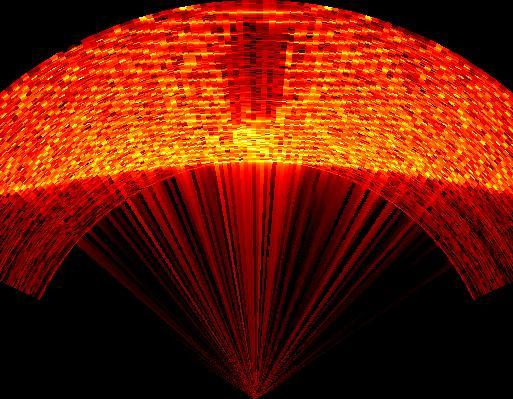box_crate: (210, 18, 320, 134)
